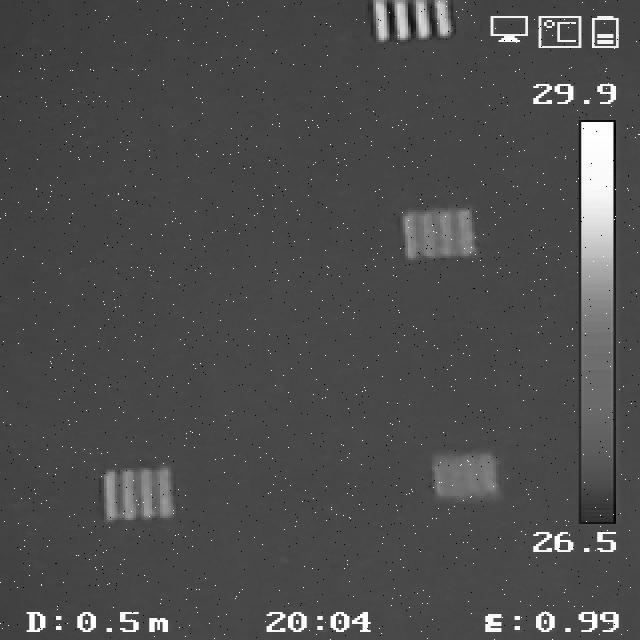Distinguishable 4-bar target: (96, 464, 173, 522), (369, 0, 456, 42)
Indistinguishable 4-bar target: (429, 452, 492, 498)
threshold 4-bar target: (398, 210, 474, 260)
